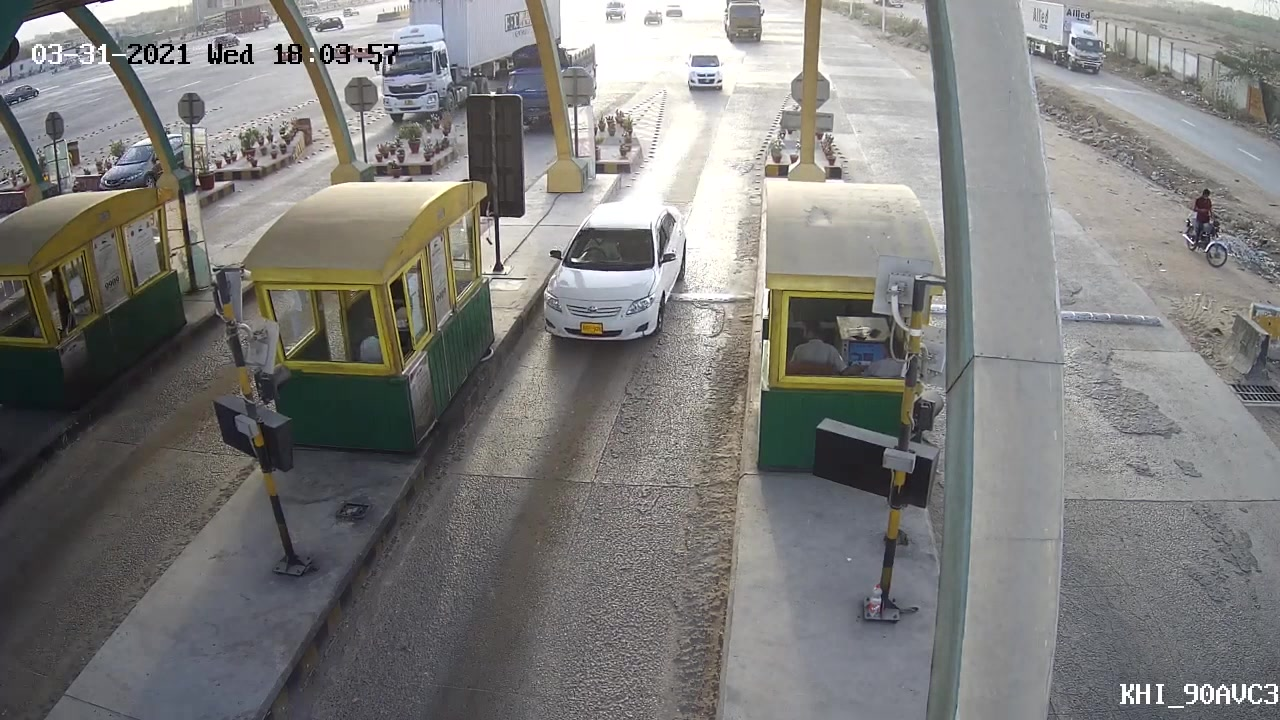F1: (528, 198, 694, 350)
